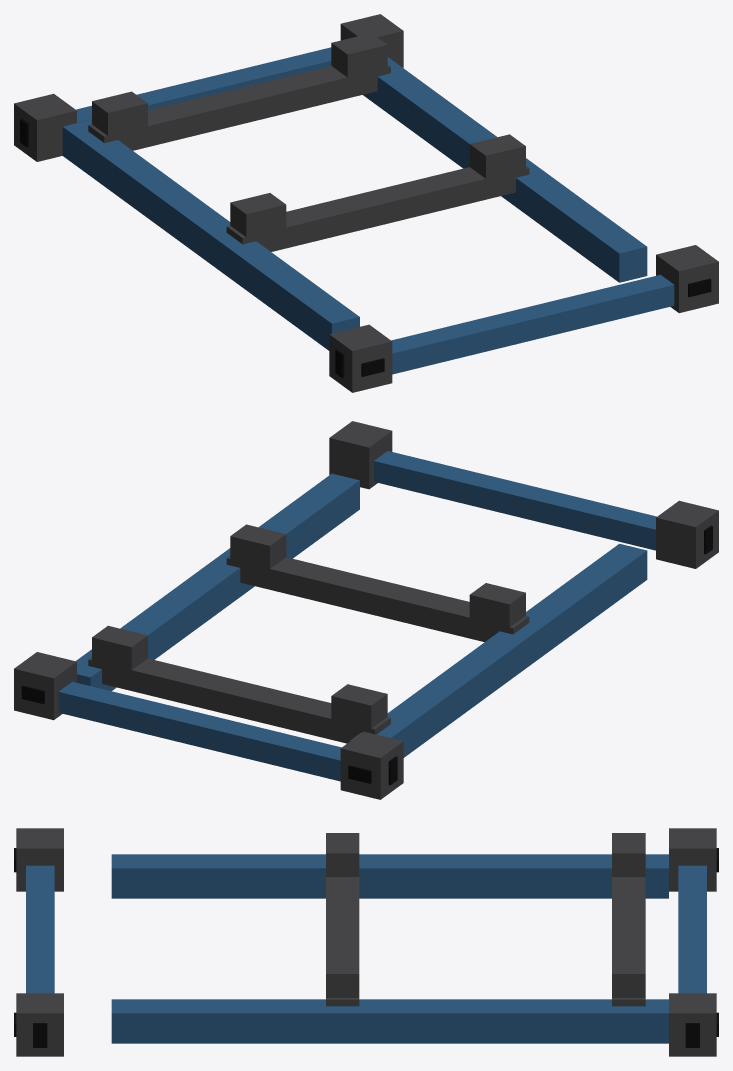
File: pellet_frame.obj
The picture shows the model from 3 angles, top to bottom: view 1: azimuth 30°, elevation 25°; view 2: azimuth 150°, elevation 25°; view 3: azimuth 270°, elevation 25°; orthographic projection. The views are drawn at different scales.
Visible parts, largest first — view 1: pellet_frame; view 2: pellet_frame; view 3: pellet_frame.
Boxes of the visible parts, x1,y1,x2,y2 form: pellet_frame: (14,14,718,392); pellet_frame: (14,421,718,799); pellet_frame: (14,828,718,1056).
Size of the model in its own units: 0.928 by 0.145 by 1.48.
